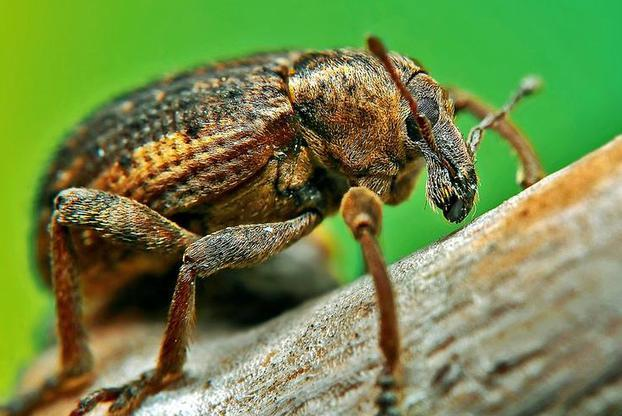weevils: (1, 0, 594, 416)
